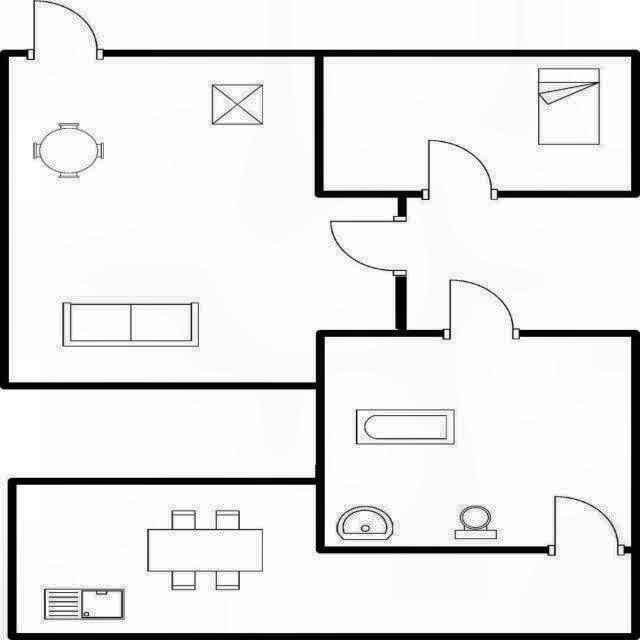room: (9, 57, 398, 382), (17, 485, 631, 633), (325, 337, 631, 547), (324, 57, 631, 191)
